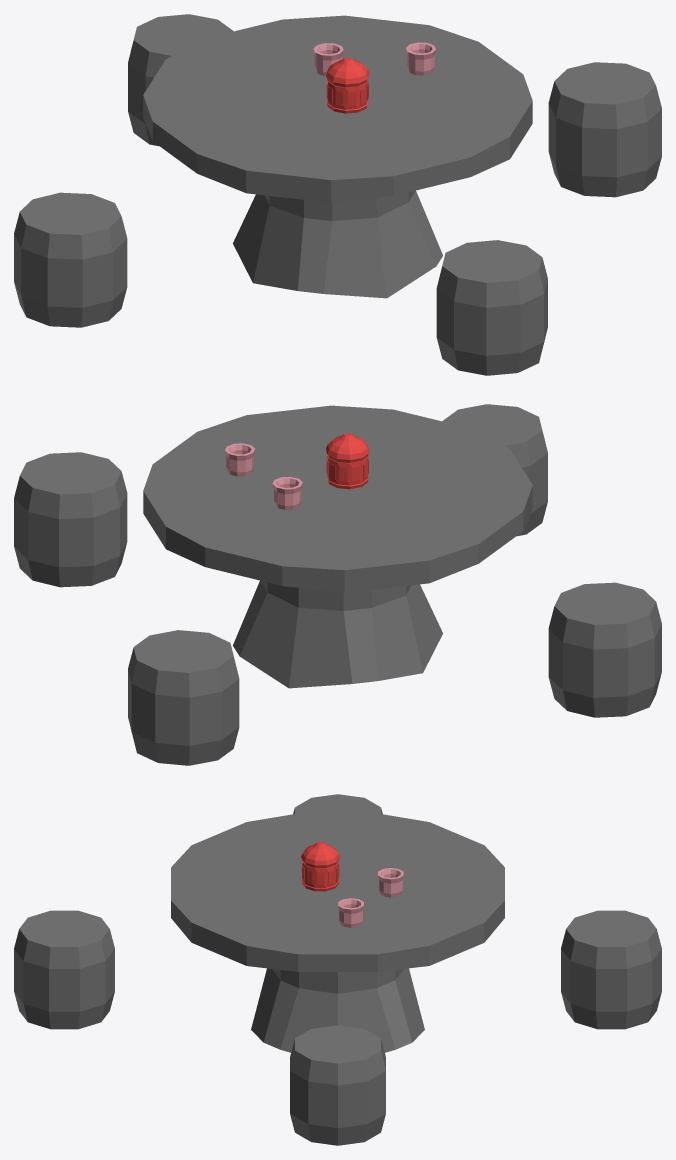
The model's file is tea_table.glb.
3 renders of one model, top to bottom at view 1: azimuth 30°, elevation 25°; view 2: azimuth 150°, elevation 25°; view 3: azimuth 270°, elevation 25°, orthographic. The views are drawn at different scales.
Visible parts, largest first — view 1: Cube, Cylinder.002, Cylinder.003, Cylinder, Cylinder.001, Cylinder.004, Cylinder.005, Cylinder.006; view 2: Cube, Cylinder.002, Cylinder.003, Cylinder.001, Cylinder, Cylinder.004, Cylinder.005, Cylinder.006; view 3: Cube, Cylinder, Cylinder.001, Cylinder.003, Cylinder.004, Cylinder.002, Cylinder.006, Cylinder.005.
Boxes of the visible parts, left/top/right/bottom form: Cube: left=143, top=15, right=532, bottom=298; Cylinder.002: left=14, top=192, right=127, bottom=327; Cylinder.003: left=548, top=62, right=661, bottom=197; Cylinder: left=436, top=240, right=547, bottom=375; Cylinder.001: left=128, top=14, right=233, bottom=146; Cylinder.004: left=326, top=57, right=369, bottom=113; Cylinder.005: left=406, top=42, right=436, bottom=75; Cylinder.006: left=313, top=43, right=343, bottom=75; Cube: left=143, top=405, right=532, bottom=688; Cylinder.002: left=548, top=582, right=661, bottom=717; Cylinder.003: left=14, top=452, right=127, bottom=587; Cylinder.001: left=128, top=630, right=239, bottom=765; Cylinder: left=442, top=404, right=547, bottom=536; Cylinder.004: left=326, top=433, right=369, bottom=489; Cylinder.005: left=225, top=443, right=255, bottom=476; Cylinder.006: left=272, top=476, right=302, bottom=509; Cube: left=171, top=813, right=504, bottom=1052; Cylinder: left=14, top=910, right=114, bottom=1029; Cylinder.001: left=561, top=910, right=661, bottom=1029; Cylinder.003: left=290, top=1025, right=385, bottom=1145; Cylinder.004: left=301, top=841, right=340, bottom=891; Cylinder.002: left=293, top=794, right=382, bottom=814; Cylinder.006: left=378, top=868, right=403, bottom=897; Cylinder.005: left=338, top=898, right=363, bottom=927.
Size of the model in its own units: 4.54 by 1.48 by 4.54.
